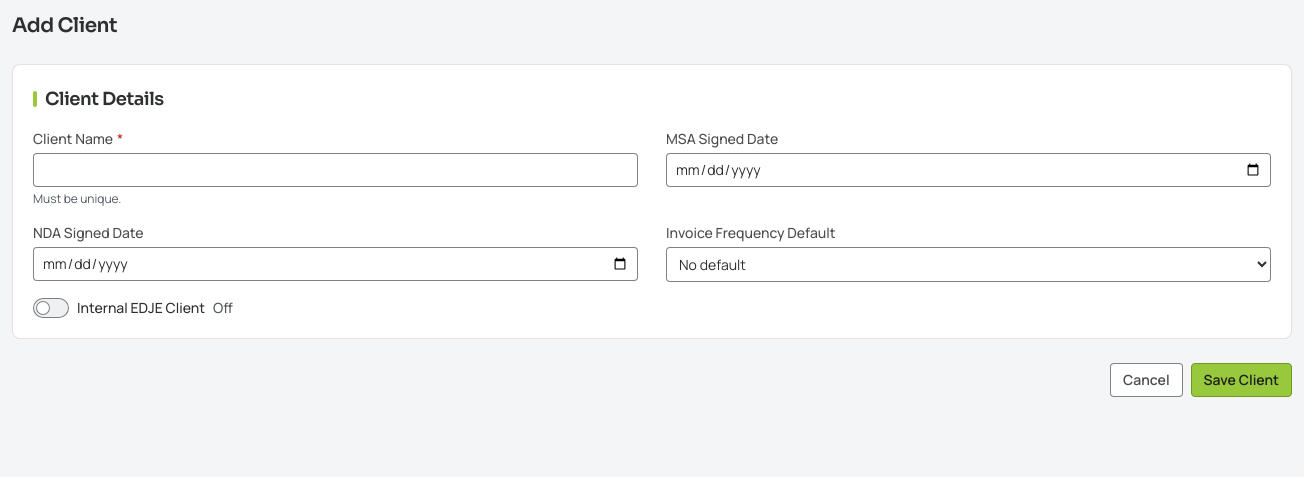
Test: ClientFormPage — adding › surfaces a duplicate-name rejection inline, and keeps what was typed
The width and height of the screenshot is (1304, 477).
Type "Contoso" into the field labelled "Client Name*". click: (336, 170)
box: [33,153,638,187]
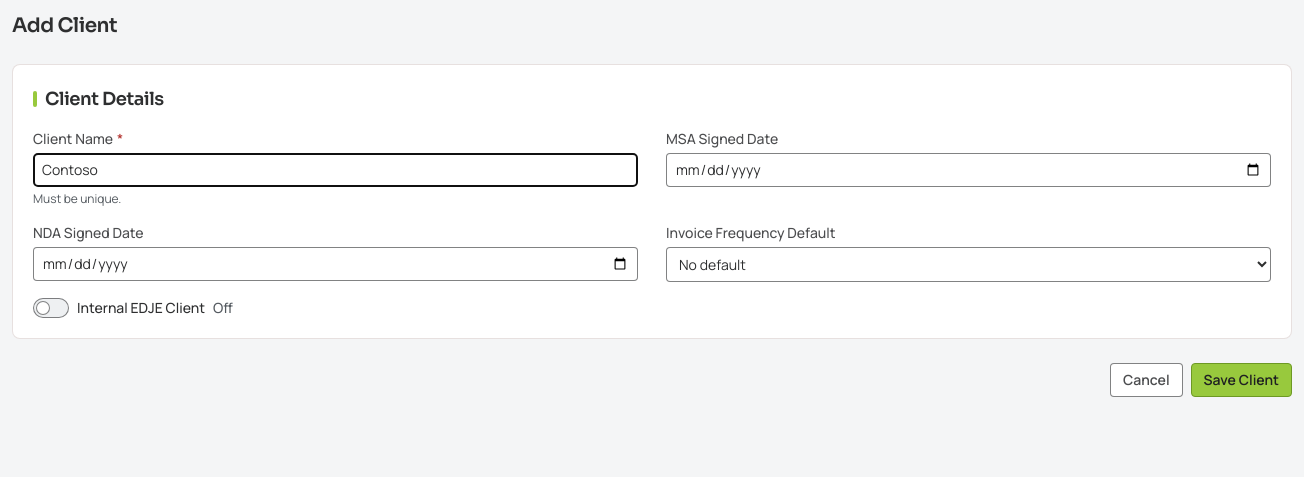
Click the button "Save Client". click: (1241, 380)
box: [1191,363,1292,397]
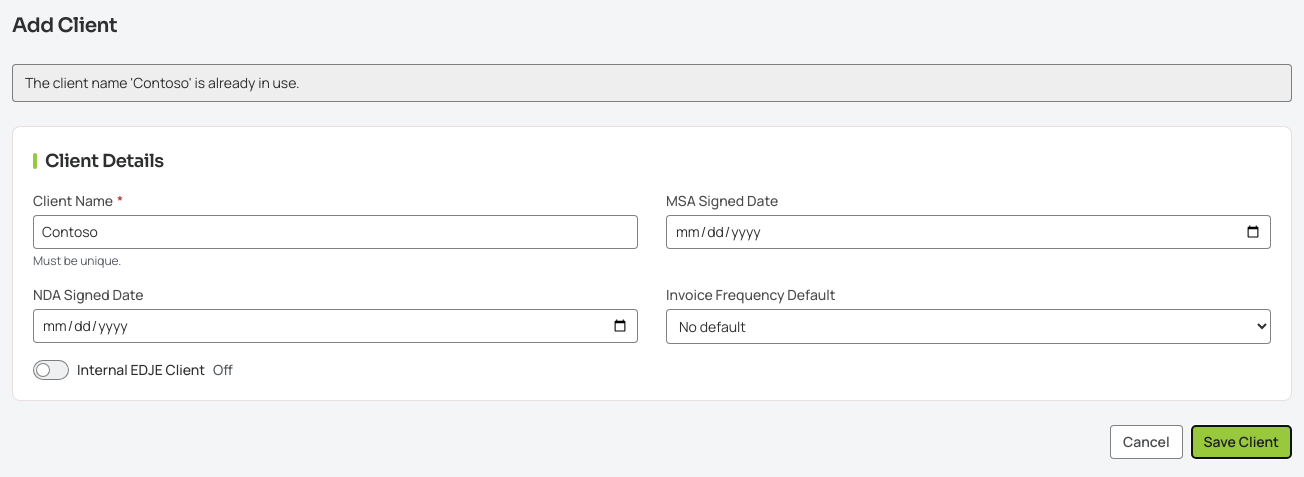
Expected: the message shows "already in use", [25,73,300,92]
